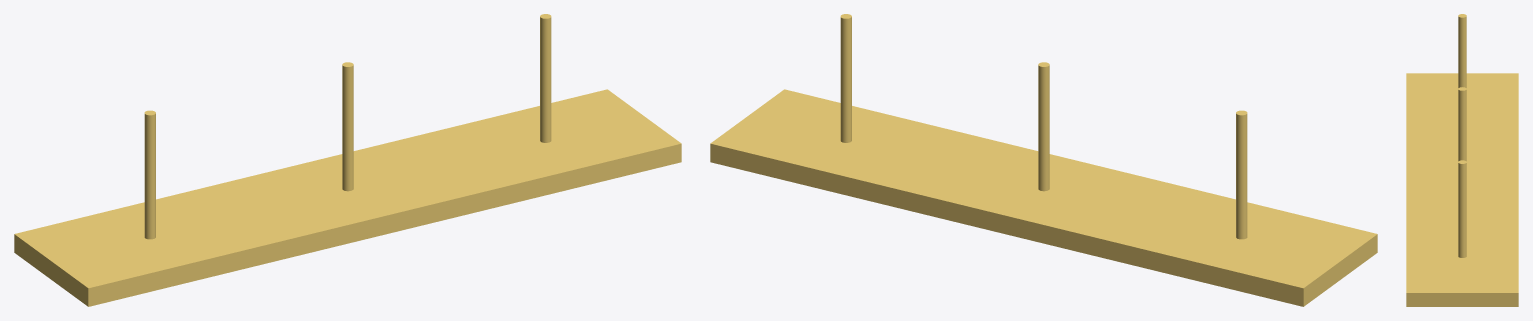
The model's file is TowerBase.dae.
3 views of the same model, side by side, from view 1: azimuth 30°, elevation 25°; view 2: azimuth 150°, elevation 25°; view 3: azimuth 270°, elevation 25° (orthographic). The views are drawn at different scales.
Visible parts, largest first — view 1: ID2; view 2: ID2; view 3: ID2.
Part boxes in pixels (box(x1,y1,x2,y2)): ID2: box(14, 14, 681, 306); ID2: box(710, 14, 1377, 306); ID2: box(1406, 14, 1518, 306).
Size of the model in its own units: 0.3 by 0.065 by 0.069.
